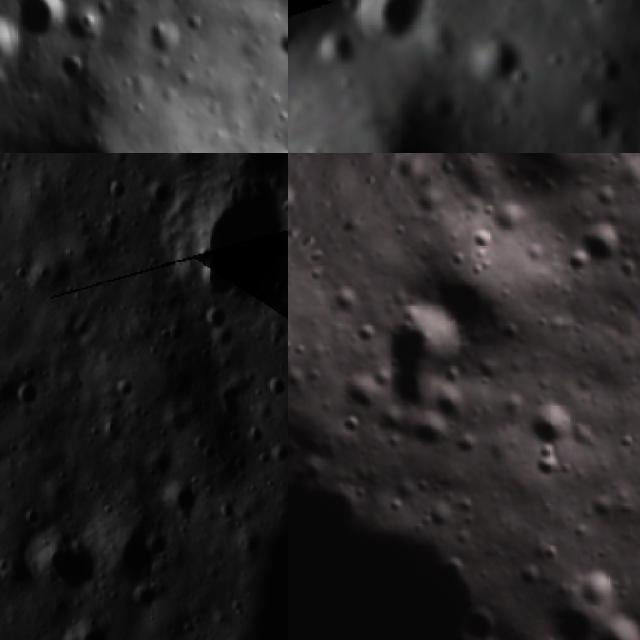crater: (388, 240, 542, 394), (176, 158, 288, 298), (21, 527, 104, 599), (564, 203, 638, 279), (344, 0, 435, 61), (519, 386, 594, 459), (104, 513, 176, 588), (541, 584, 616, 640), (569, 88, 626, 153), (304, 23, 364, 78), (474, 35, 526, 94), (30, 251, 84, 303), (15, 0, 75, 42), (143, 12, 189, 64), (0, 7, 30, 76), (591, 603, 640, 640), (159, 478, 204, 517), (214, 377, 248, 424), (57, 50, 92, 90), (62, 616, 113, 640), (144, 448, 176, 482), (257, 436, 288, 471), (127, 582, 163, 612), (140, 526, 172, 558), (144, 176, 176, 208), (10, 381, 44, 410), (257, 372, 288, 401), (106, 373, 140, 399), (275, 18, 288, 73), (102, 180, 130, 203), (16, 363, 42, 386), (218, 497, 240, 523), (20, 506, 44, 529), (243, 424, 260, 450), (0, 553, 13, 578)
